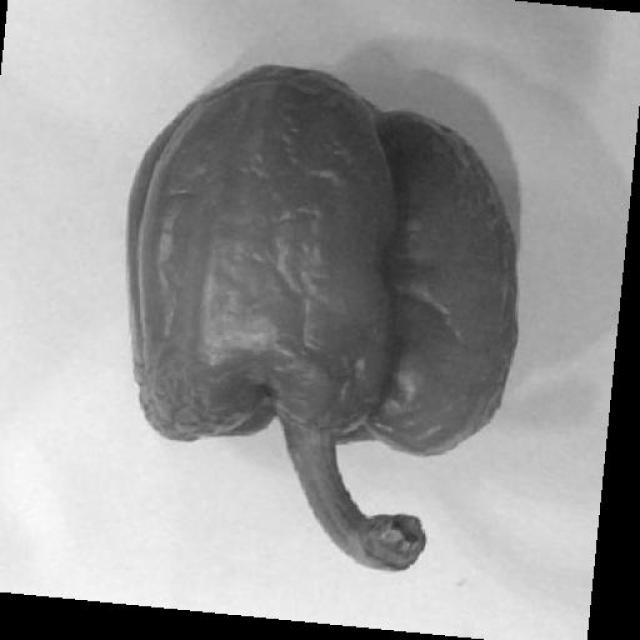Stale_Capsicum: (125, 64, 538, 526)
